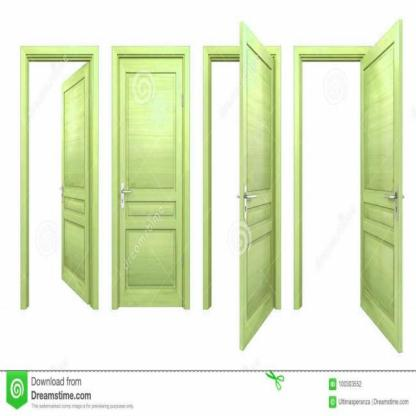door: (290, 12, 406, 356), (200, 16, 287, 352), (107, 37, 193, 322), (15, 33, 100, 317)
